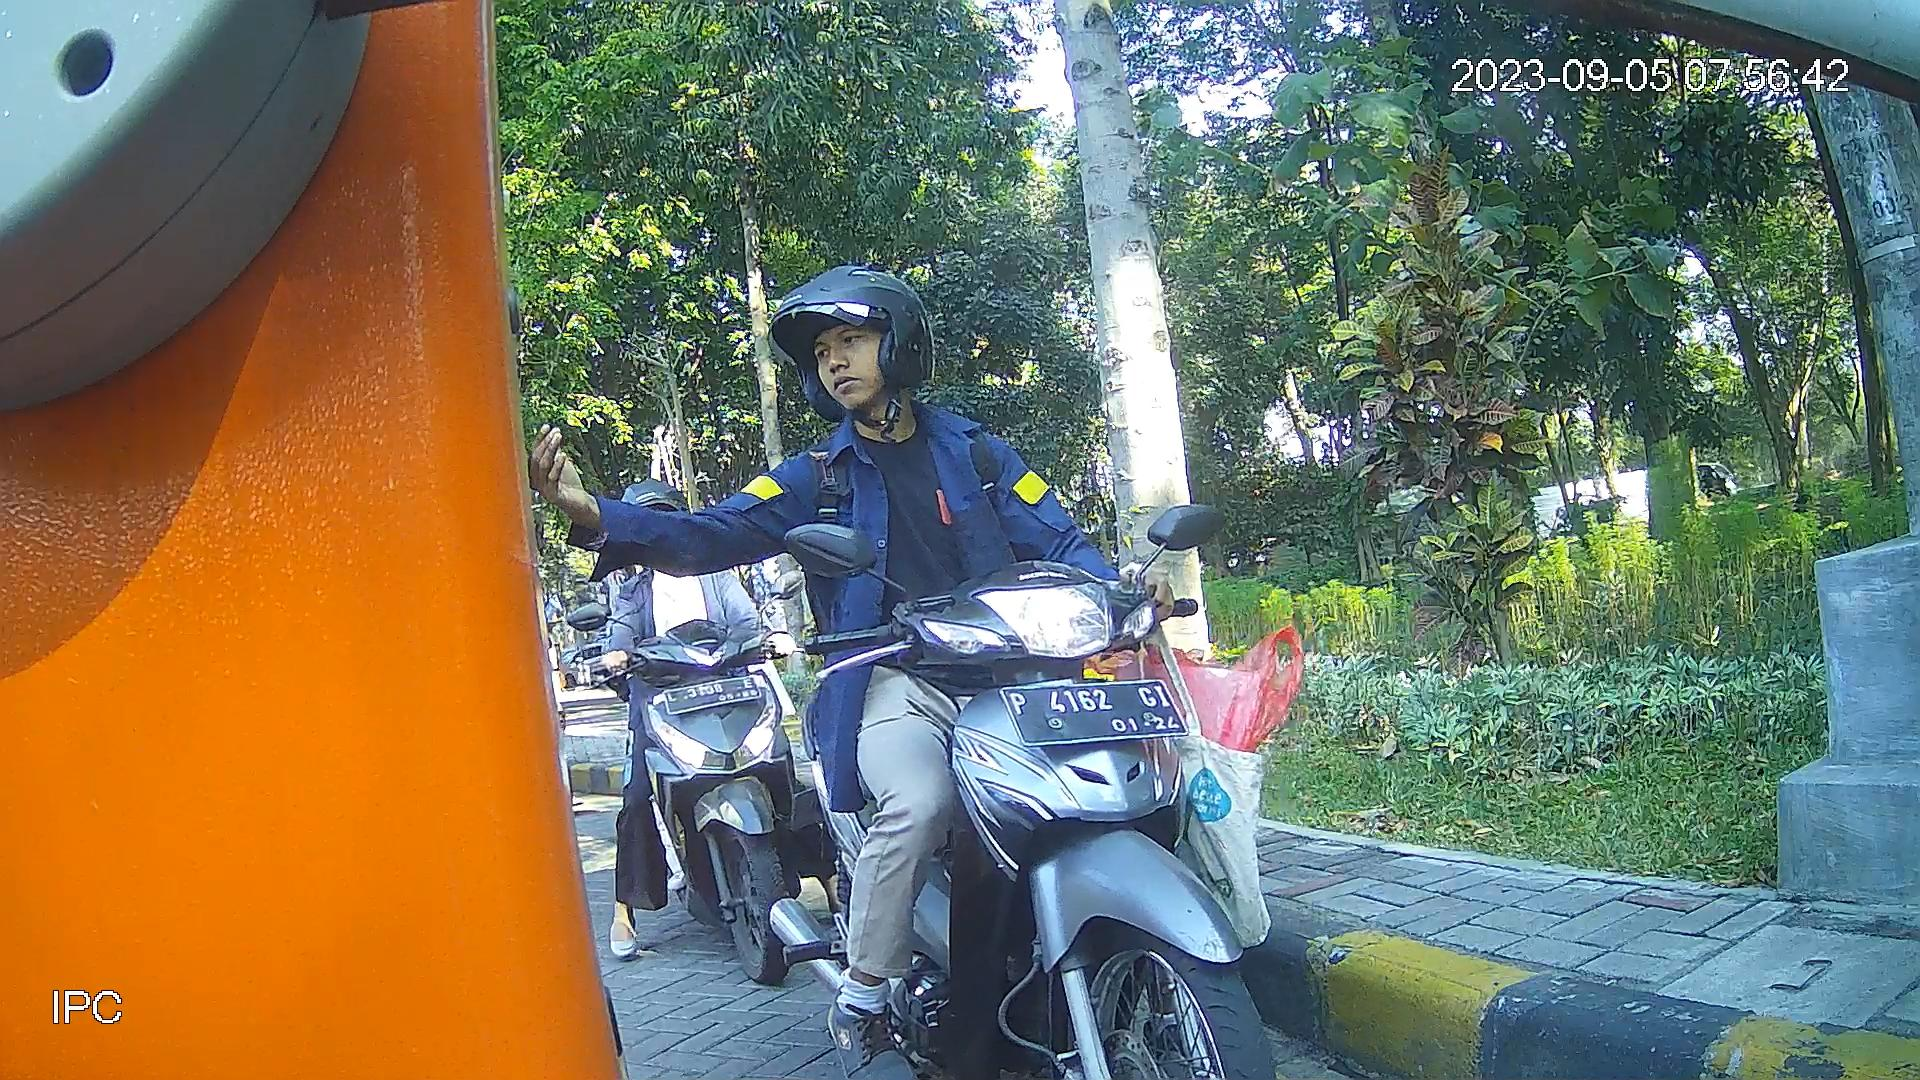plat: (997, 676, 1192, 748)
